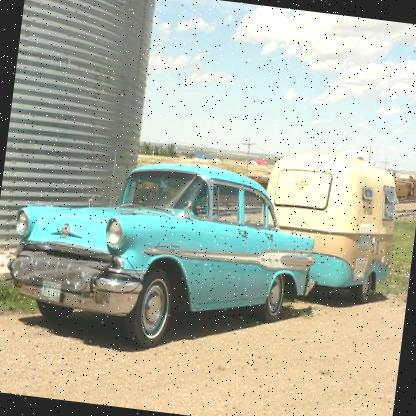car: (0, 138, 328, 365)
